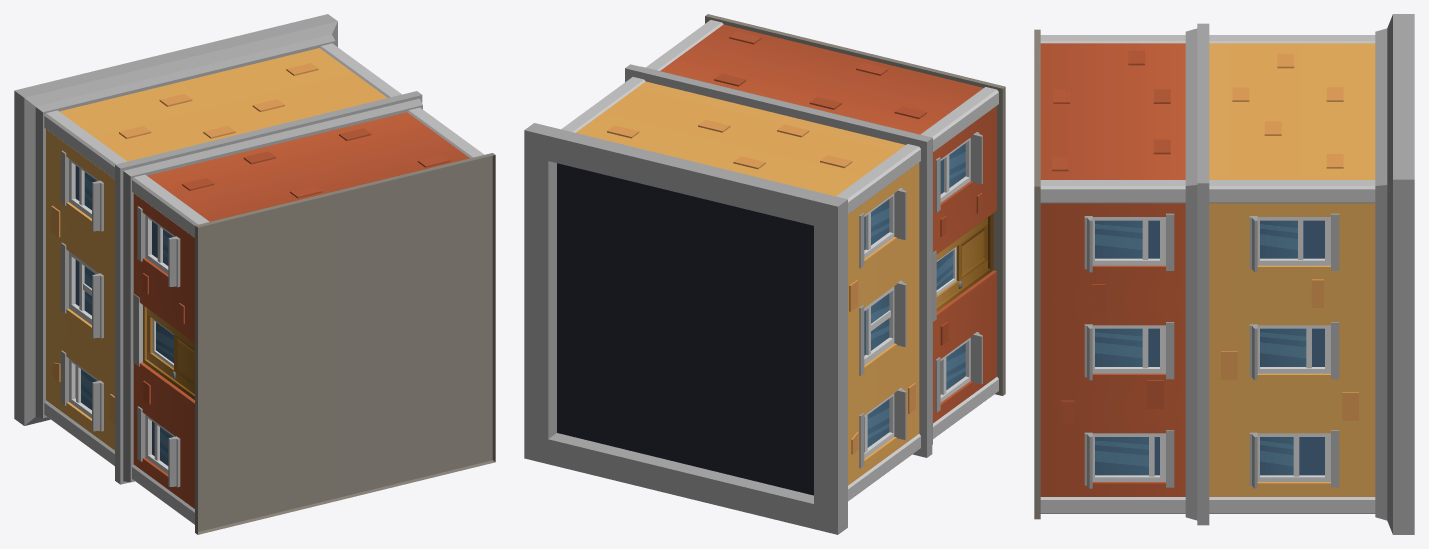
The model's file is Building_2_3_E.fbx.
3 renders of one model, left to right at view 1: azimuth 30°, elevation 25°; view 2: azimuth 150°, elevation 25°; view 3: azimuth 270°, elevation 25°, orthographic. The views are drawn at different scales.
Parts seen in each view (by area): view 1: Building_2_3_E; view 2: Building_2_3_E; view 3: Building_2_3_E.
Boxes of the visible parts, x1,y1,x2,y2 form: Building_2_3_E: [14, 14, 495, 534]; Building_2_3_E: [524, 14, 1005, 534]; Building_2_3_E: [1034, 14, 1414, 534].
Bounding box in the file's own units: 620 × 620 × 602.
